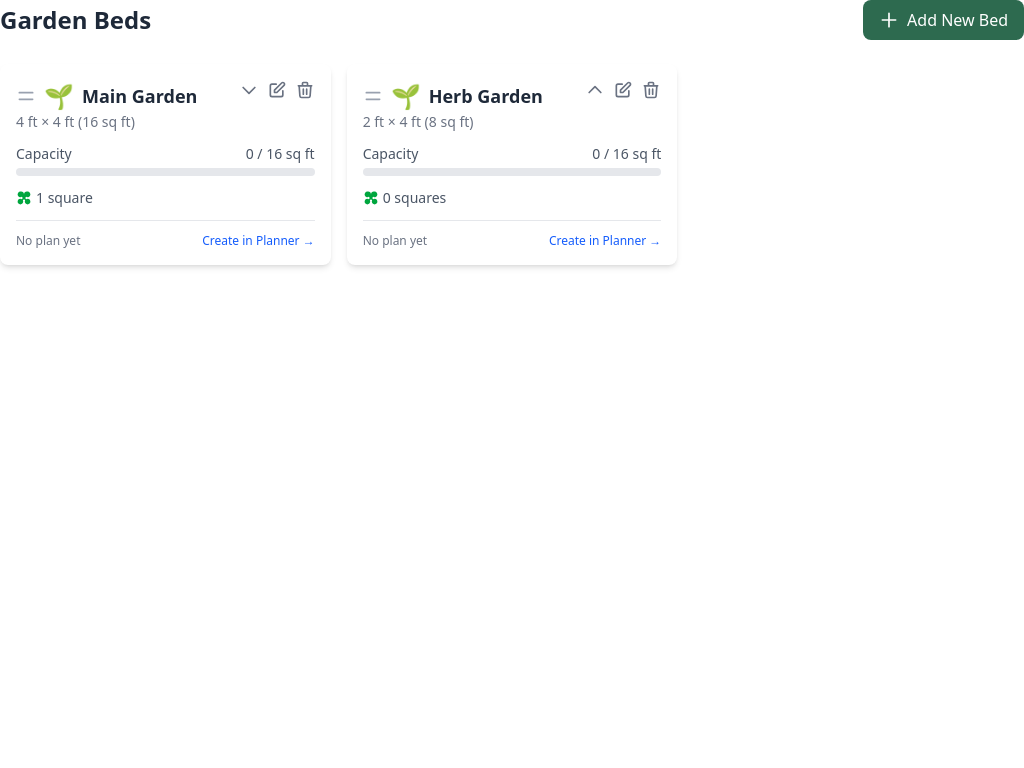
Test: BedManager › deleting beds › shows error when delete fails via dialog
Click the button named "Delete Main Garden". click: (305, 90)
box: [295, 80, 315, 100]
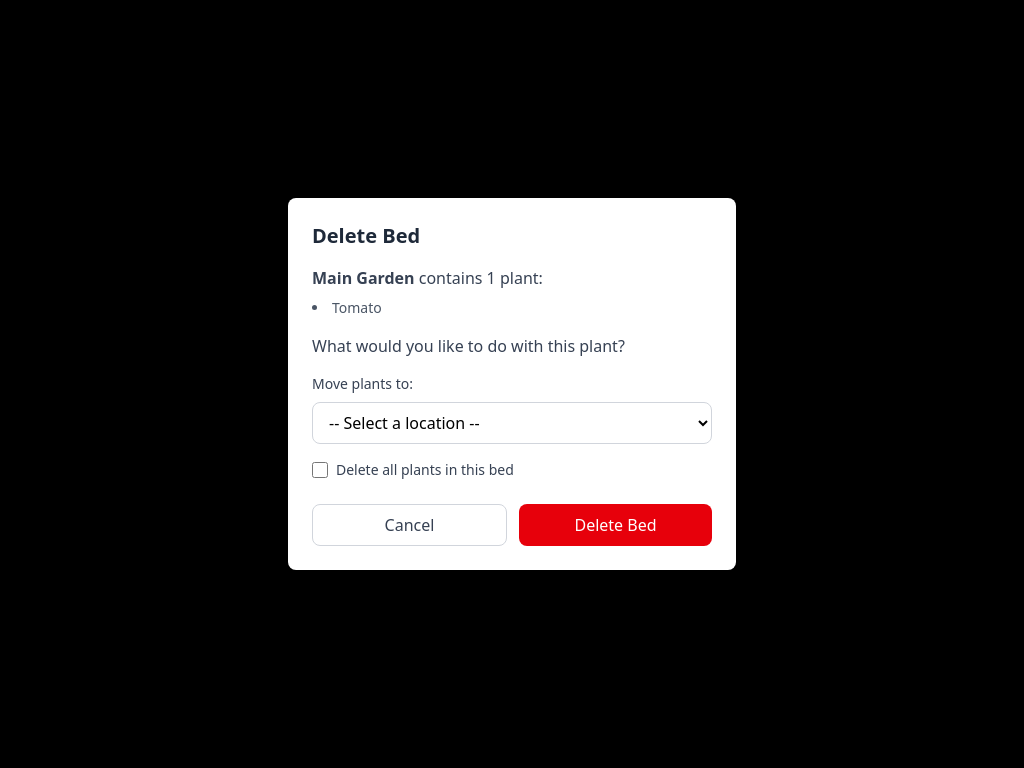
Click the checkbox labelled "Delete all plants in this bed". click: (320, 470)
box: [312, 462, 328, 478]
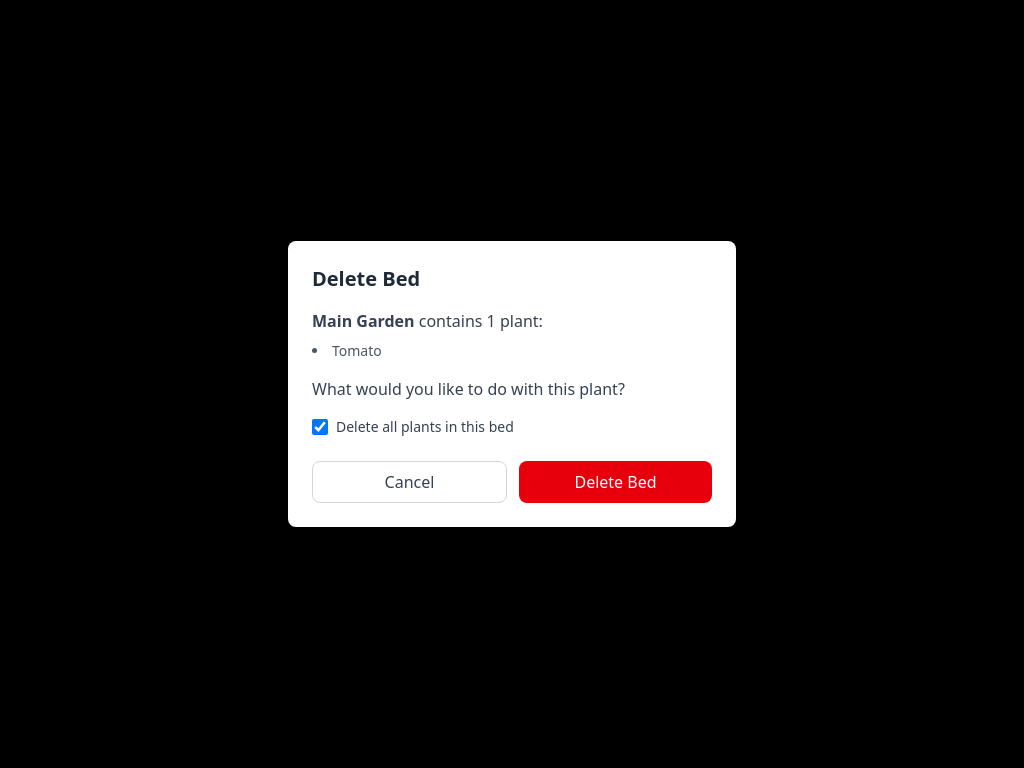
Click the button "Delete Bed". click: (616, 482)
box: [519, 461, 712, 503]
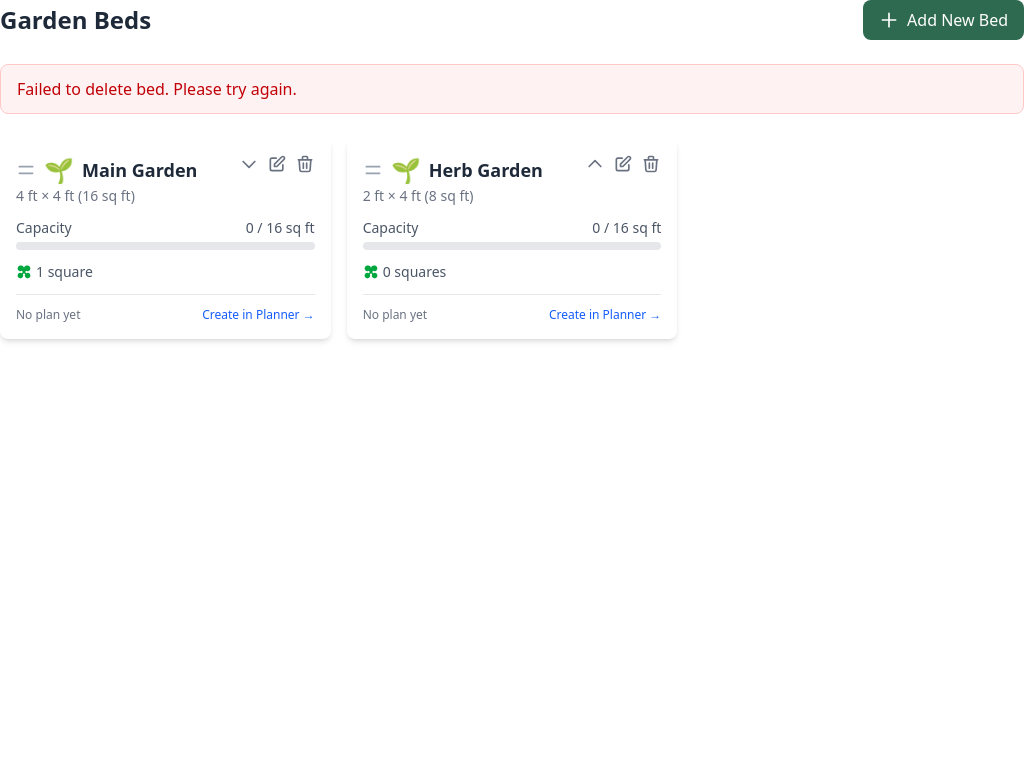
Expected: the text "Failed to delete bed. Please try again." is shown, [0, 64, 1023, 114]
